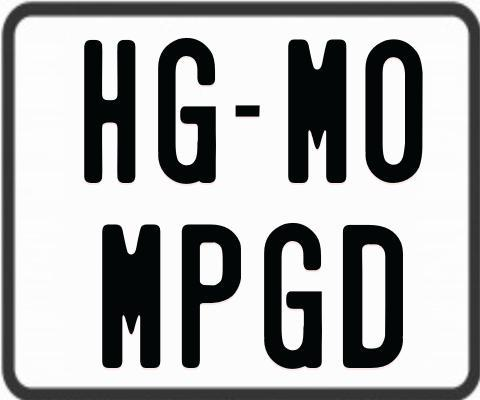0: (363, 38, 421, 183)
D: (342, 225, 402, 369)
G: (157, 35, 221, 186), (264, 220, 327, 366)
H: (82, 40, 134, 186)
M: (287, 37, 348, 183), (102, 222, 161, 370)
P: (181, 222, 244, 372)
